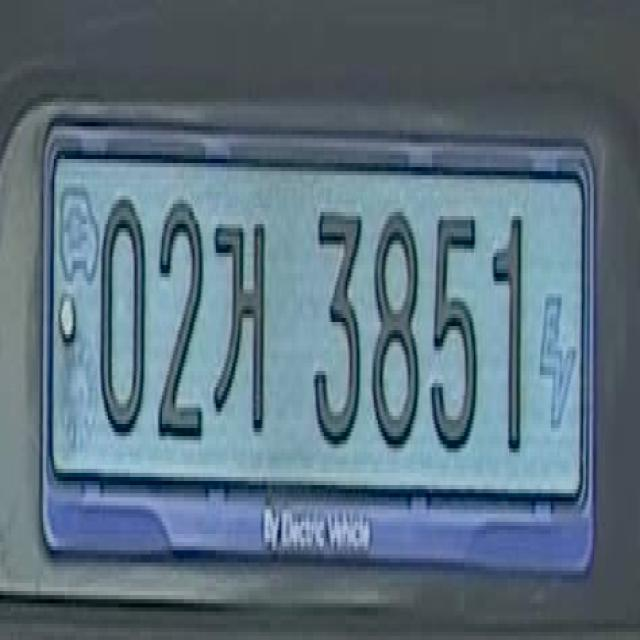EV_plate: (31, 103, 602, 578)
